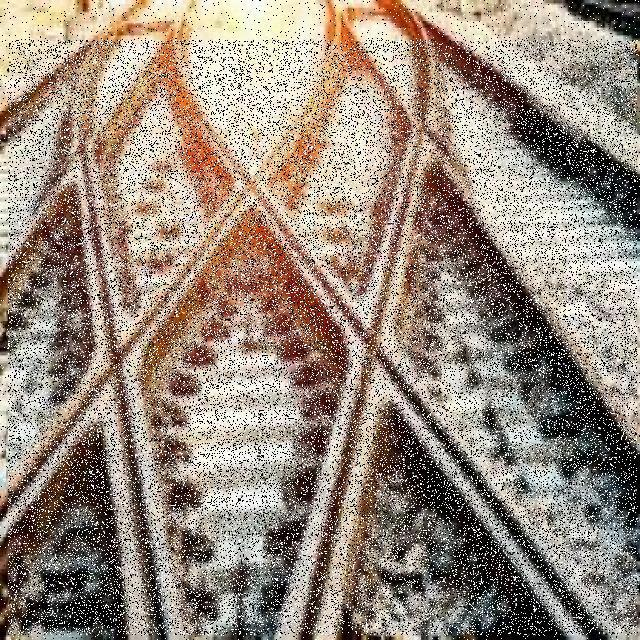rail: (8, 40, 637, 635)
